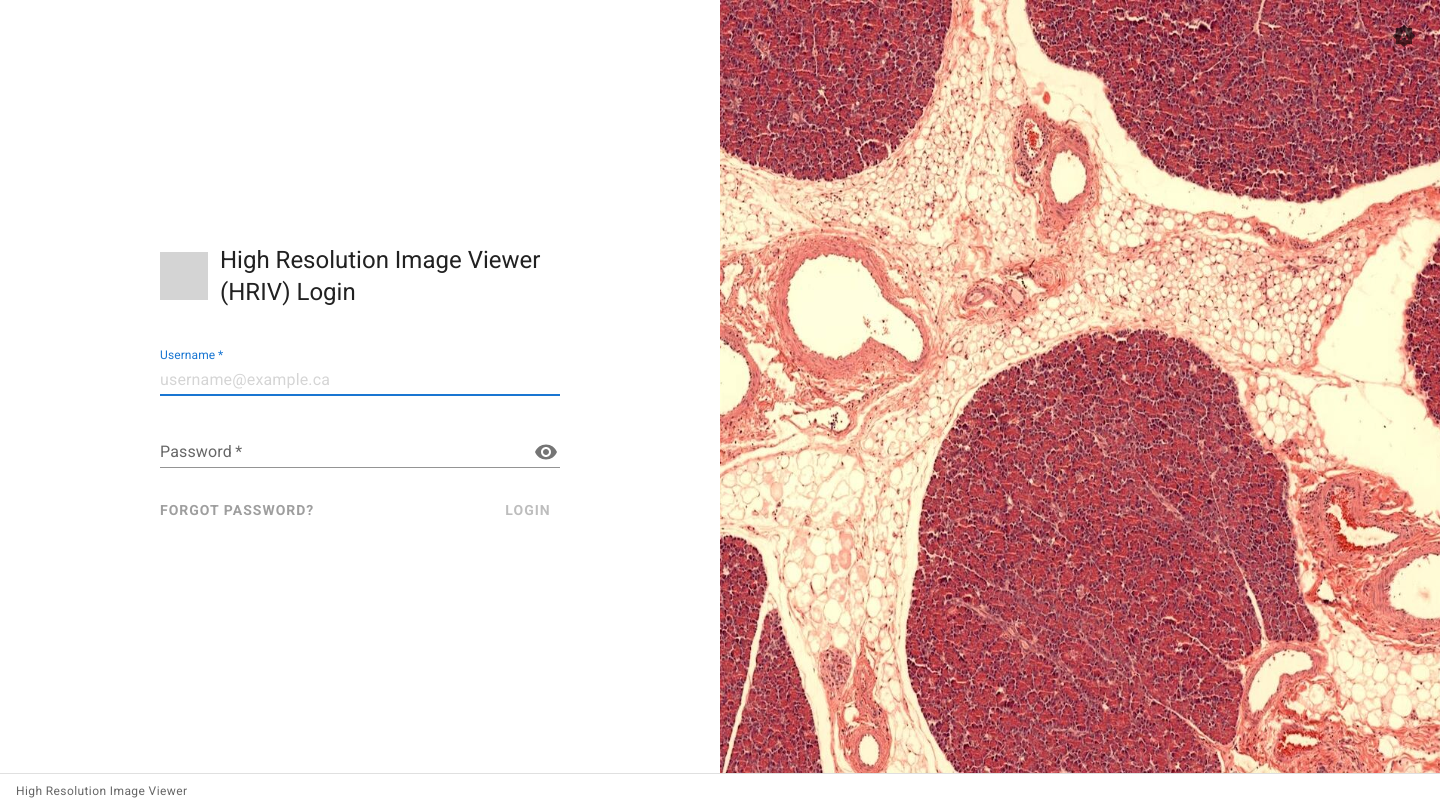
Test: LoginScreen › forgot password dialog › opens the dialog when "Forgot Password?" is clicked
The width and height of the screenshot is (1440, 810).
Click the button "Forgot Password?" at (237, 511), box [160,492,314,529]
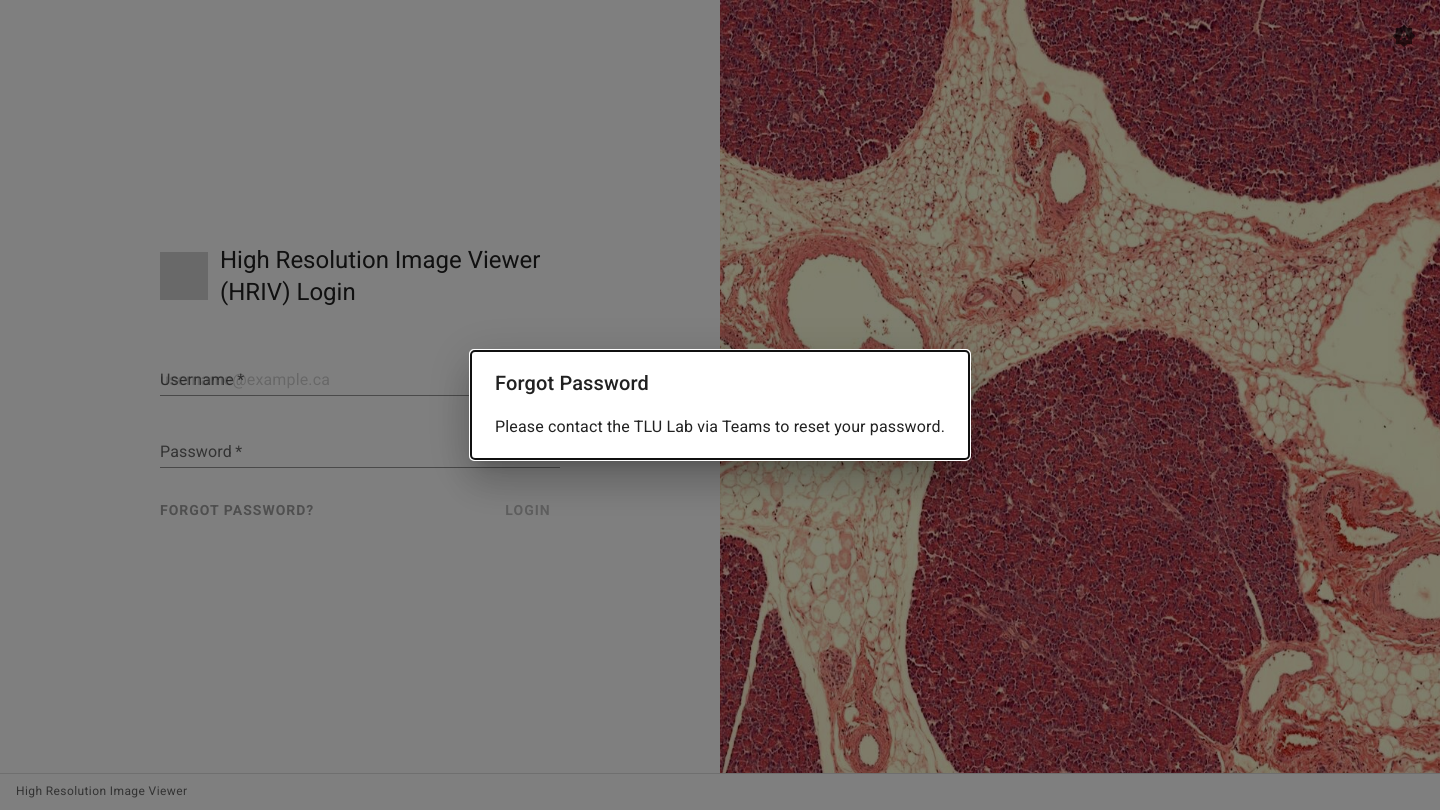
Now the text "Please contact the TLU Lab via Teams to reset your password." is shown, box [495,415,945,439]
